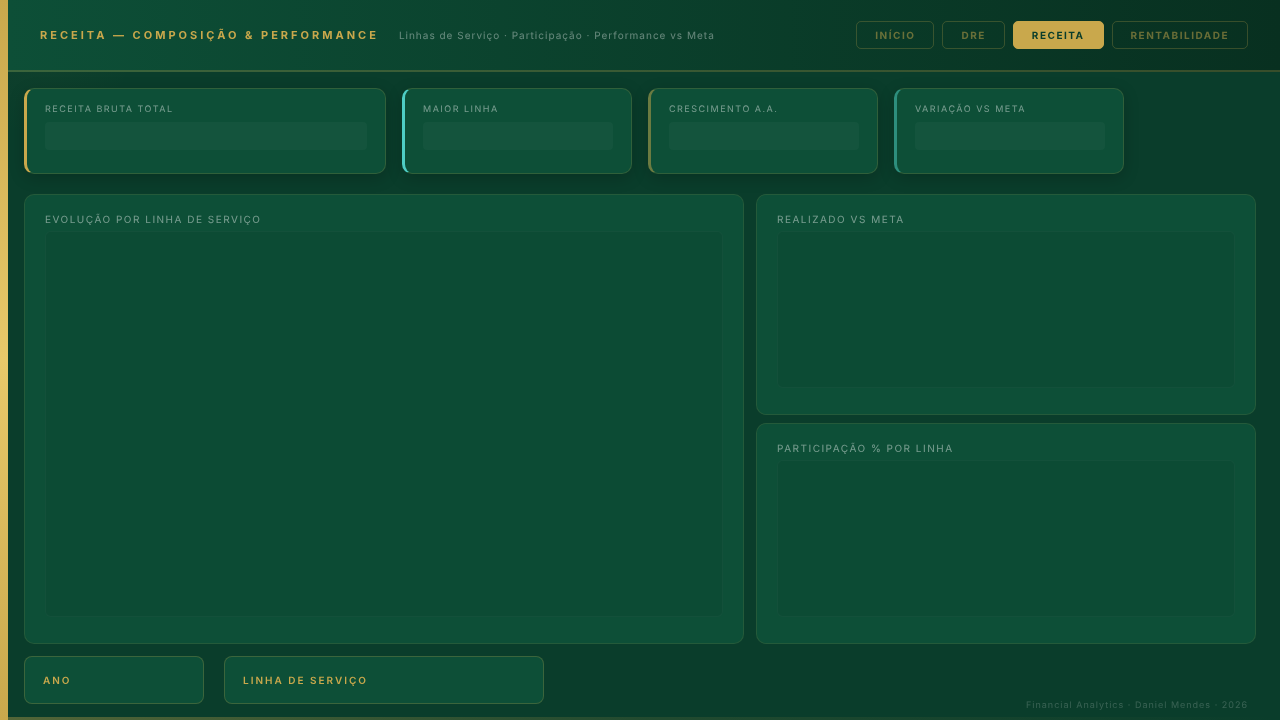

This screenshot's page, from the dashboard's own definition file:
{"tool":"powerbi","page":{"name":"Receita","canvas":[1920,1080],"ordinal":2},"visuals":[{"type":"cardVisual","fields":{"Data":["_Medidas.Receita Bruta"]},"box":[56.1,146.6,354.7,86.9],"z":0},{"type":"cardVisual","fields":{"Data":["Min(vw_Receita_Composicao.Linha_Servico)"]},"box":[617.5,146.1,341.7,86.4],"z":1000},{"type":"cardVisual","fields":{"Data":["_Medidas.Crescimento aa"]},"box":[990.1,146.1,354.7,86.9],"z":2000},{"type":"cardVisual","fields":{"Data":["_Medidas.Atingimento Meta"]},"box":[1358.5,146.1,354.7,86.9],"z":3000},{"type":"lineChart","fields":{"Category":["vw_Receita_Composicao.ano"],"Series":["vw_Receita_Composicao.Linha_Servico"],"Y":["Sum(vw_Receita_Composicao.Receita)"]},"box":[82.3,354,990.1,564],"z":4000},{"type":"clusteredColumnChart","fields":{"Category":["vw_Performance_vs_Meta.ano"],"Y":["Sum(vw_Performance_vs_Meta.Receita_Realizada)","Sum(vw_Performance_vs_Meta.Meta_Anual)"]},"box":[1167.1,354,675.1,220.2],"z":5000},{"type":"clusteredBarChart","fields":{"Category":["vw_Receita_Composicao.Linha_Servico"],"Y":["Avg(vw_Receita_Composicao.Participacao_Pct)"]},"box":[1167.1,697.8,675.1,220.2],"z":5001},{"type":"actionButton","box":[1286.7,29,108.6,39.8],"z":5002},{"type":"actionButton","box":[1416.1,28.8,88.5,39.1],"z":5003},{"type":"actionButton","box":[1679.4,29,181,39.8],"z":5004},{"type":"slicer","fields":{"Values":["vw_Receita_Composicao.ano"]},"box":[123.5,998.3,170.8,49.4],"z":5005},{"type":"slicer","fields":{"Values":["vw_Receita_Composicao.Linha_Servico"]},"box":[557.8,998.3,244.9,49.4],"z":5006}]}

Visuals, with their boxes in screenshot pixels (x1, y1, x2, y2), scaled from the page's 1920x1080 canvas onto the 1280x720 screenshot:
cardVisual - _Medidas.Receita Bruta: 37/98/274/156
cardVisual - Min(vw_Receita_Composicao.Linha_Servico): 412/97/639/155
cardVisual - _Medidas.Crescimento aa: 660/97/897/155
cardVisual - _Medidas.Atingimento Meta: 906/97/1142/155
lineChart - vw_Receita_Composicao.ano x vw_Receita_Composicao.Linha_Servico: 55/236/715/612
clusteredColumnChart - vw_Performance_vs_Meta.ano x Sum(vw_Performance_vs_Meta.Receita_Realizada): 778/236/1228/383
clusteredBarChart - vw_Receita_Composicao.Linha_Servico x Avg(vw_Receita_Composicao.Participacao_Pct): 778/465/1228/612
actionButton: 858/19/930/46
actionButton: 944/19/1003/45
actionButton: 1120/19/1240/46
slicer - vw_Receita_Composicao.ano: 82/666/196/698
slicer - vw_Receita_Composicao.Linha_Servico: 372/666/535/698
